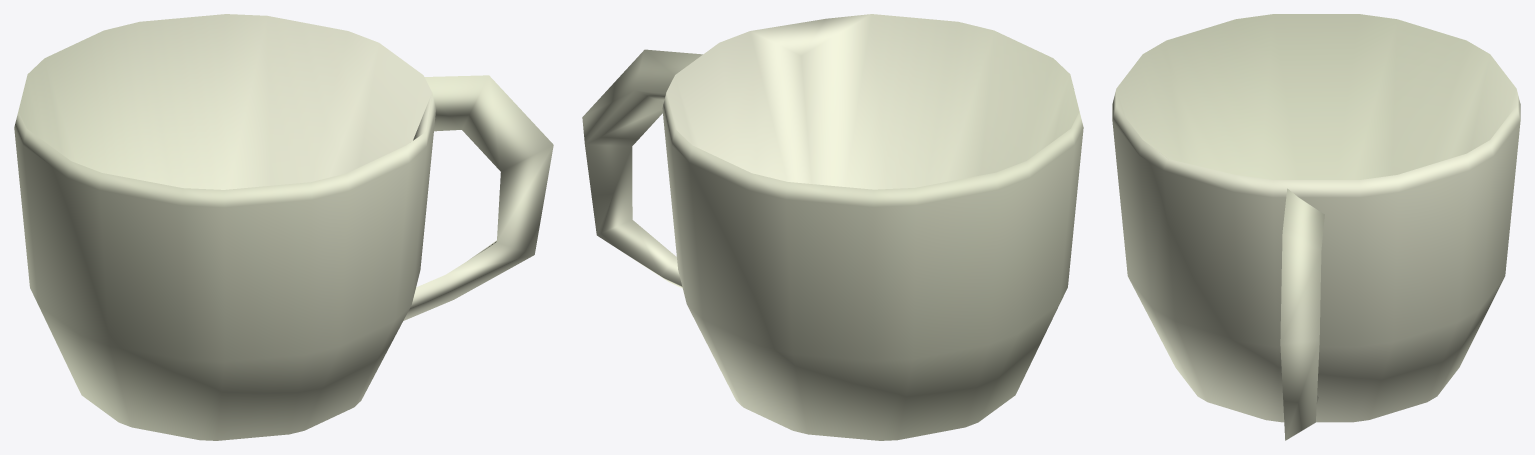
File: Coffee_Cup_C.FBX
3 renders of one model, left to right at view 1: azimuth 30°, elevation 25°; view 2: azimuth 150°, elevation 25°; view 3: azimuth 270°, elevation 25°, orthographic. The views are drawn at different scales.
Visible parts, largest first — view 1: Cup_02; view 2: Cup_02; view 3: Cup_02.
Part boxes in pixels (box(x1,y1,x2,y2)): Cup_02: box(14, 14, 553, 440); Cup_02: box(582, 14, 1083, 440); Cup_02: box(1112, 14, 1520, 440).
Size of the model in its own units: 45.6 by 24.65 by 34.07.
